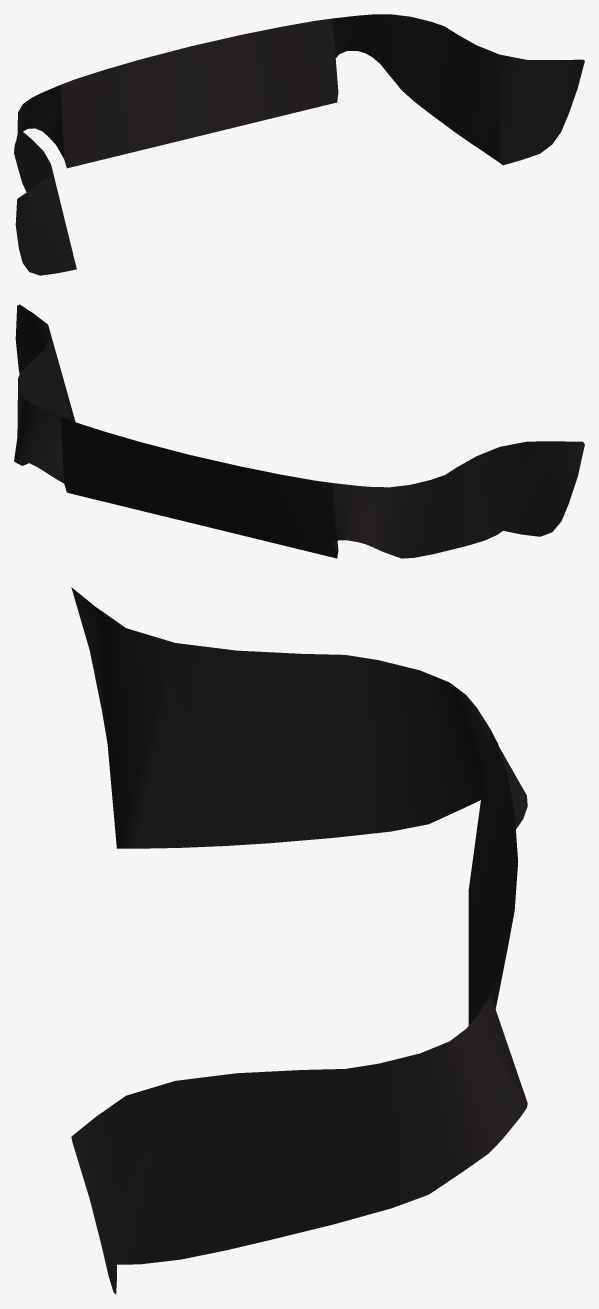
The model's file is RWB_RB_02_Trim.fbx.
3 views of the same model, one above another, from view 1: azimuth 30°, elevation 25°; view 2: azimuth 150°, elevation 25°; view 3: azimuth 270°, elevation 25° (orthographic). The views are drawn at different scales.
Parts seen in each view (by area): view 1: RWB_RB_02_Trim; view 2: RWB_RB_02_Trim; view 3: RWB_RB_02_Trim.
Boxes of the visible parts, x1,y1,x2,y2 form: RWB_RB_02_Trim: (14, 14, 584, 275); RWB_RB_02_Trim: (14, 304, 584, 558); RWB_RB_02_Trim: (71, 587, 527, 1294).
Bounding box in the file's own units: 183 × 29.98 × 63.69.
